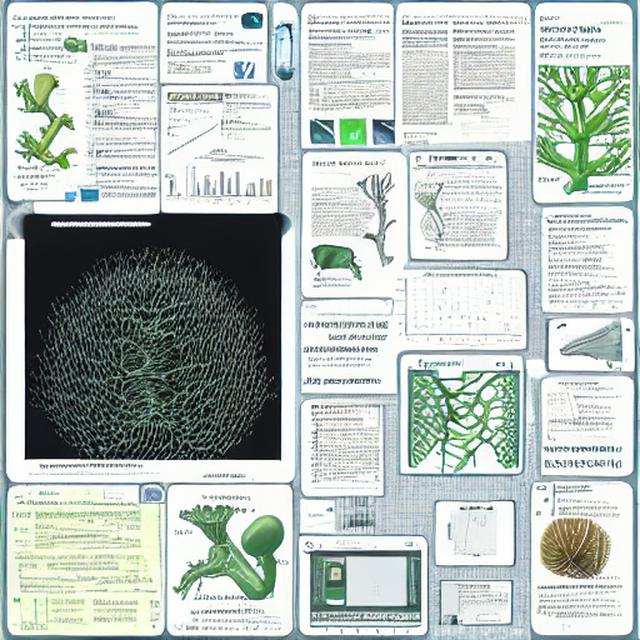Graph: (390, 272, 523, 347), (183, 155, 274, 210), (439, 504, 511, 558)
